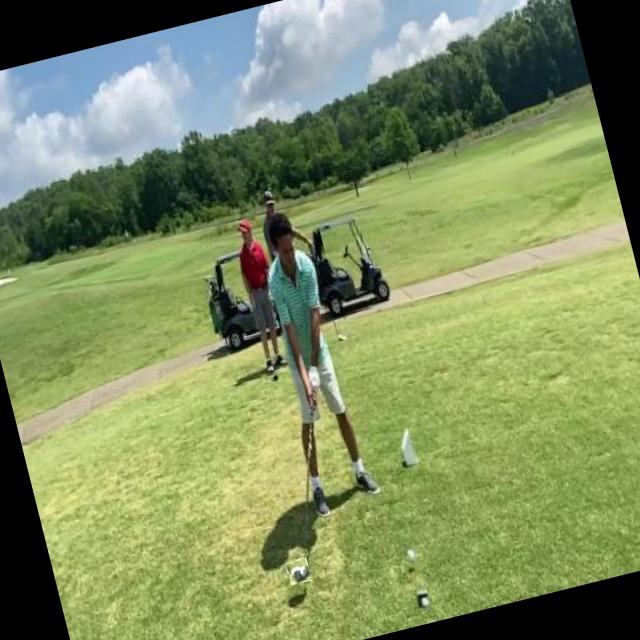club head: (286, 557, 312, 585)
